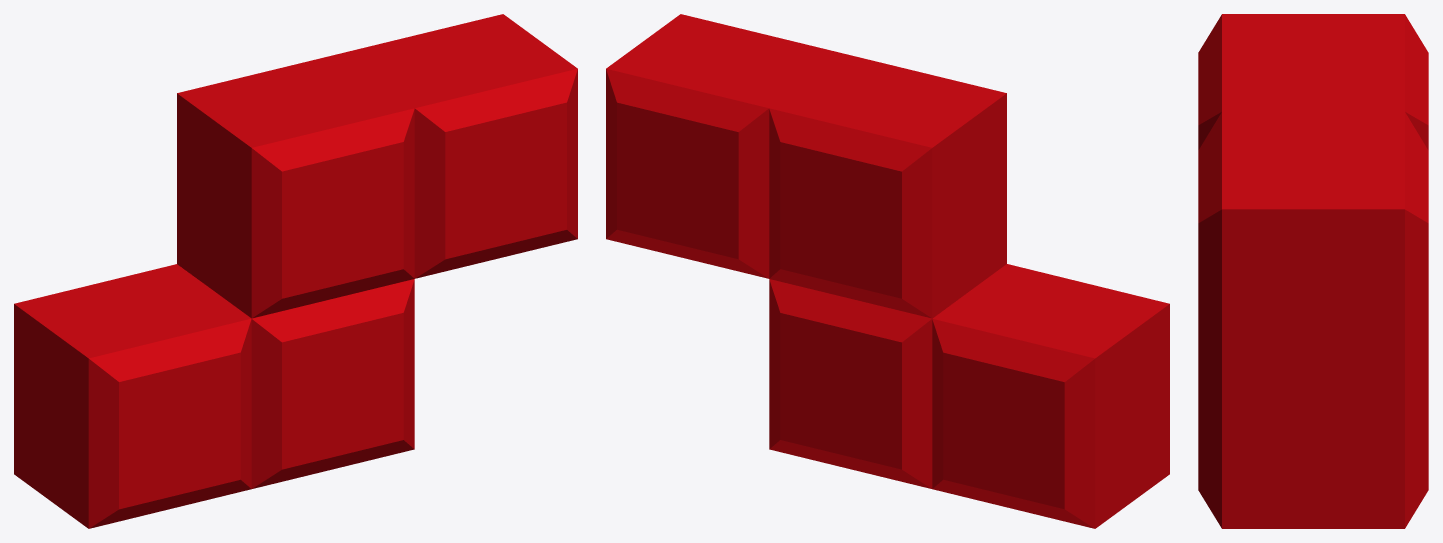
File: ZMino.fbx
3 views of the same model, side by side, from view 1: azimuth 30°, elevation 25°; view 2: azimuth 150°, elevation 25°; view 3: azimuth 270°, elevation 25° (orthographic). The views are drawn at different scales.
Visible parts, largest first — view 1: Cube; view 2: Cube; view 3: Cube.
Part boxes in pixels (<box>): Cube: <box>14,14,577,528</box>; Cube: <box>606,14,1169,528</box>; Cube: <box>1198,14,1428,528</box>.
Bounding box in the file's own units: 300 × 200 × 100.
